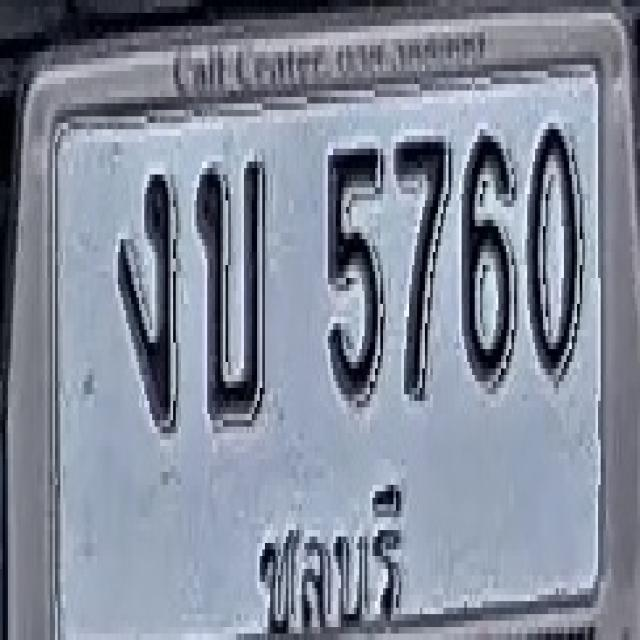0: (528, 120, 582, 378)
5: (328, 142, 383, 401)
6: (462, 130, 514, 382)
7: (395, 132, 450, 398)
A07: (117, 171, 177, 430)
A26: (196, 155, 266, 420)
CBI: (252, 472, 408, 640)
